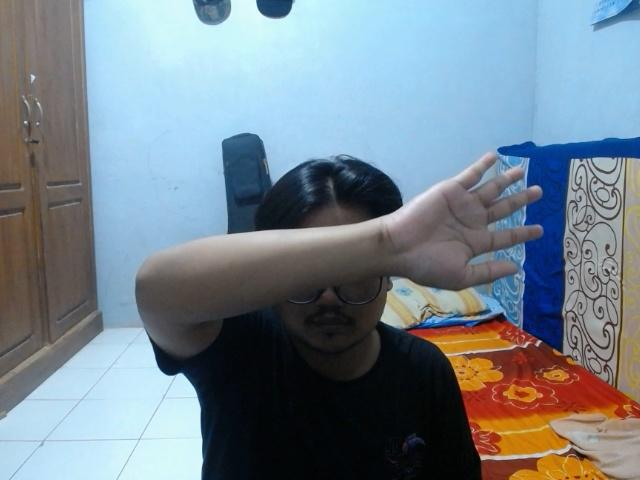Release: (370, 143, 547, 298)
